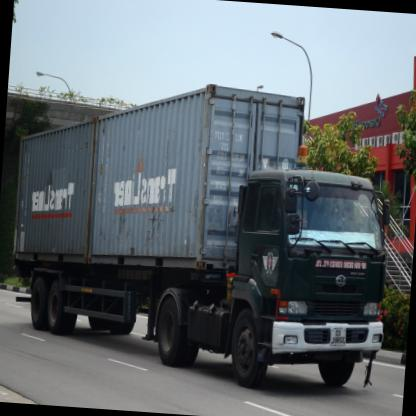truck: (223, 165, 394, 396)
